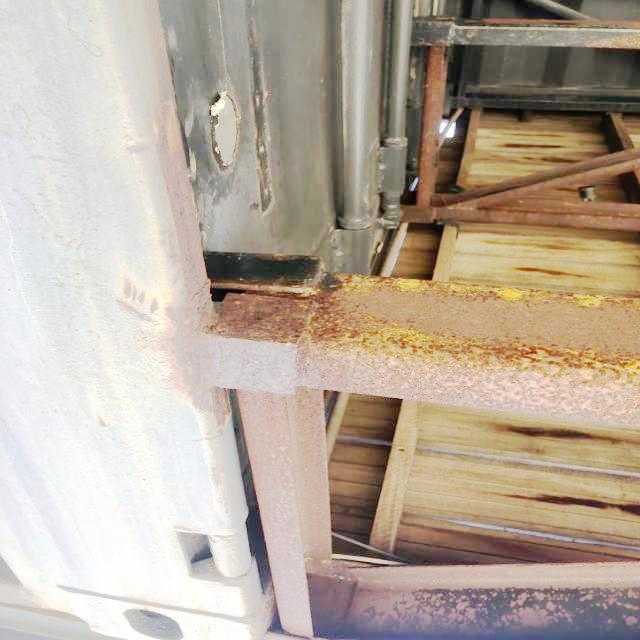Corrosion: (151, 97, 640, 640), (400, 44, 640, 232), (118, 278, 158, 318), (593, 28, 640, 49)
